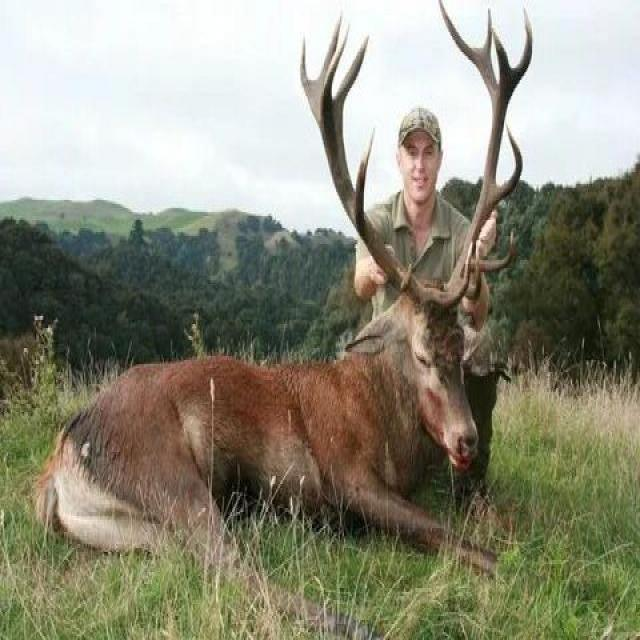deer: (60, 17, 513, 604)
